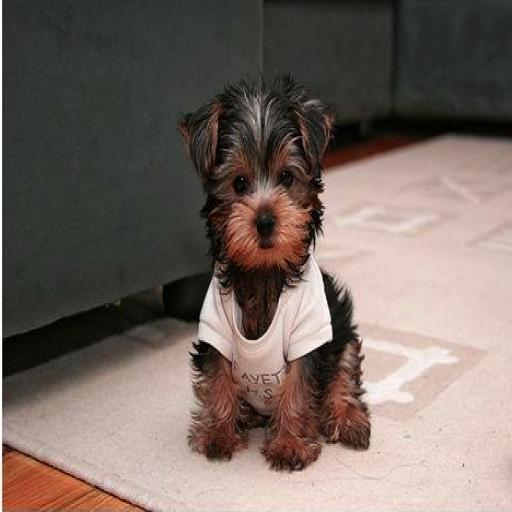dog_face: (183, 75, 332, 291)
